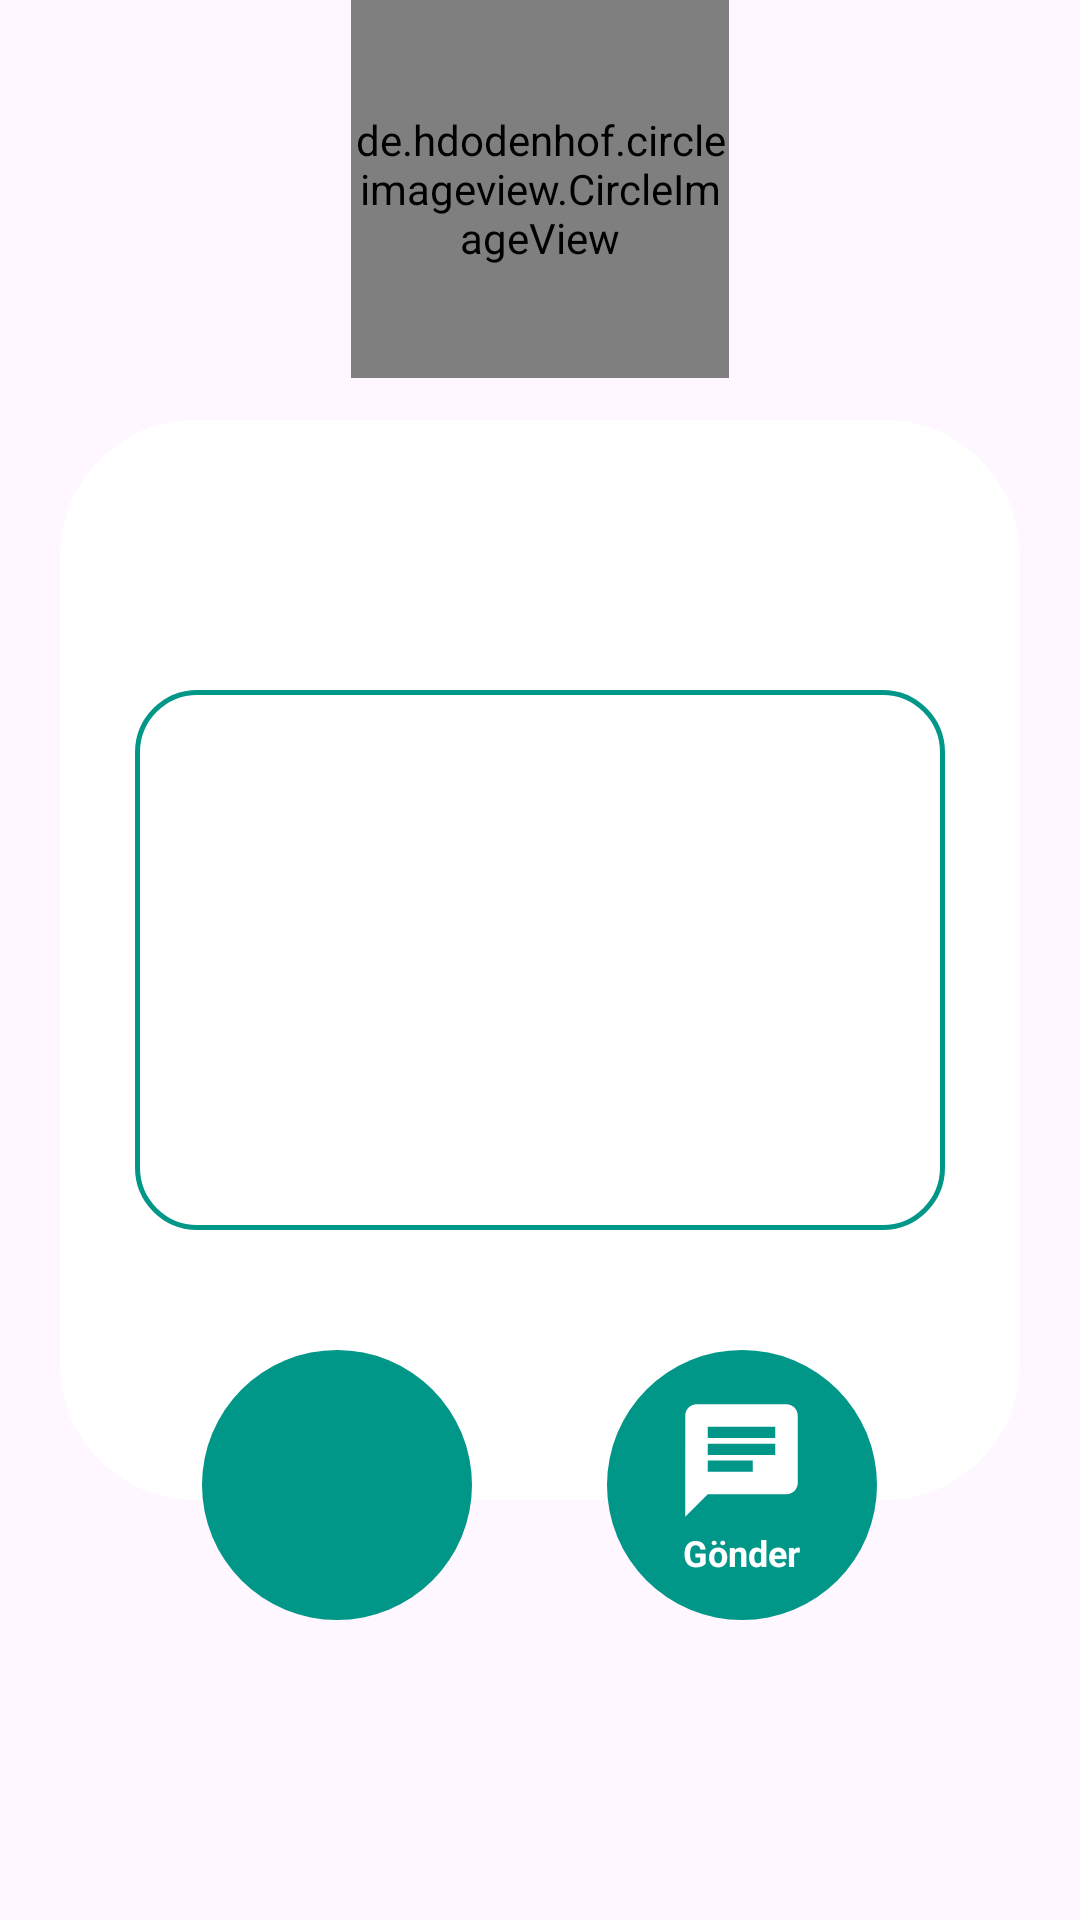

Icon click points for this 1080*1920 phone screenshot, format (x,y):
message: (741,1460)
